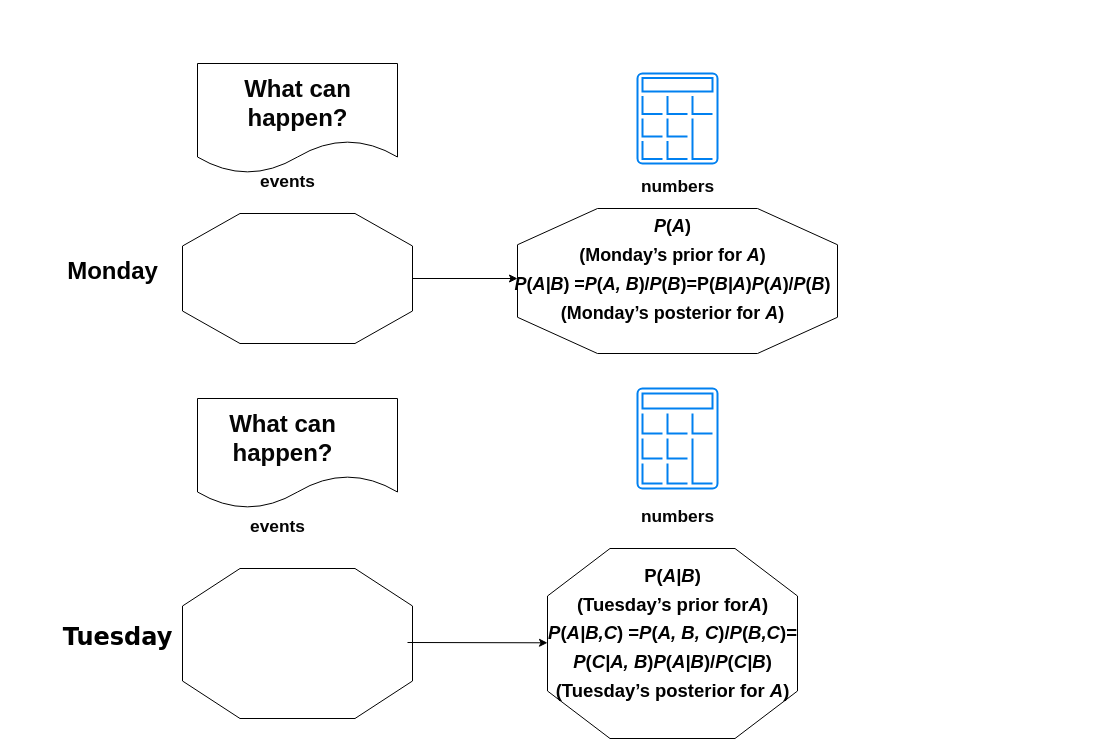
Image size: 1094x756. Some labels were removed from this diagram. The shapes that lost their labels are listed below. From the top down, each one's box as (x1, y1, x2, y2) in pixels, then its label:
(182, 212, 412, 344): A, B, C We learn on Monday that B occurred.
(182, 568, 412, 718): A, B, C We already know that B occurred. We learn on Tuesday that C occurred.
